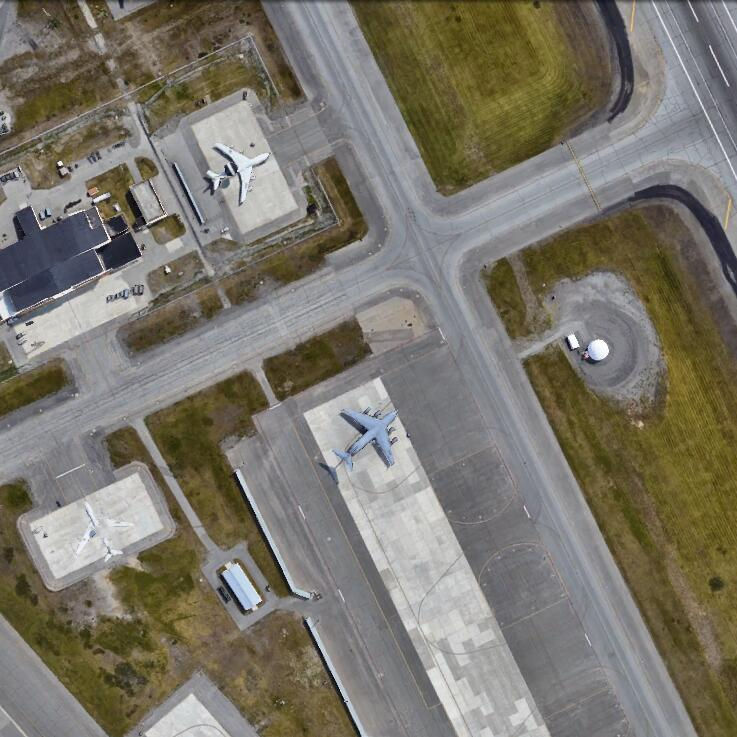A3: (335, 404, 400, 469)
A7: (205, 142, 272, 206)
